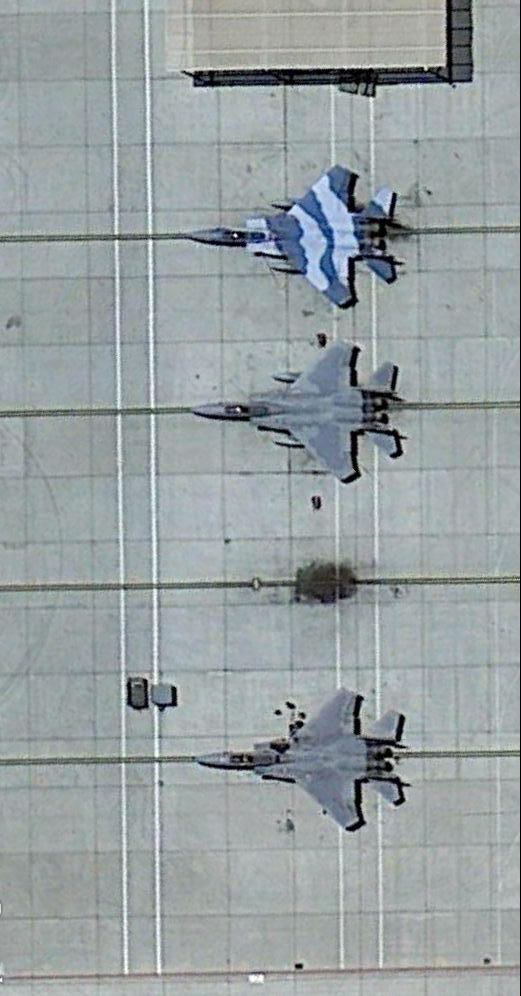F-15: (191, 691, 410, 835), (191, 161, 401, 310), (193, 336, 404, 480)
